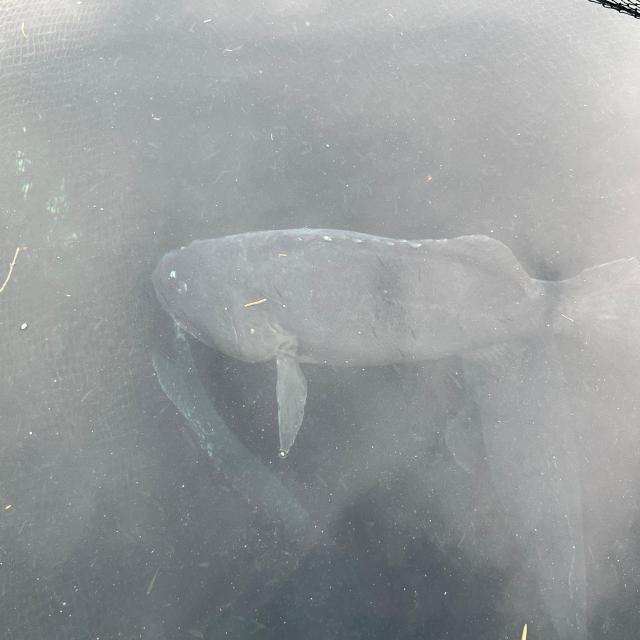ikan: (141, 201, 569, 412)
